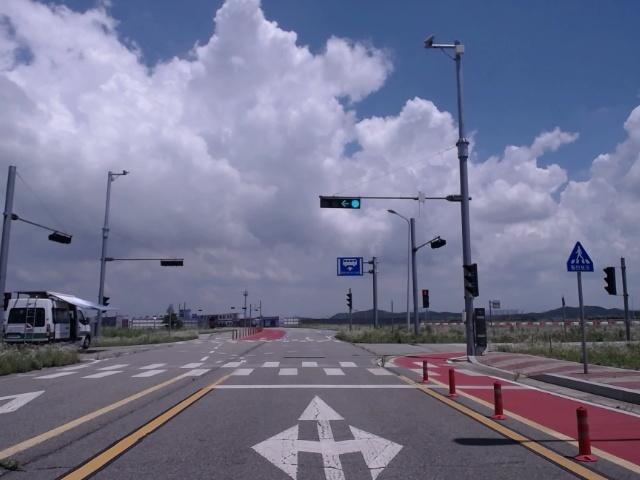all_green_4: (320, 196, 361, 210)
